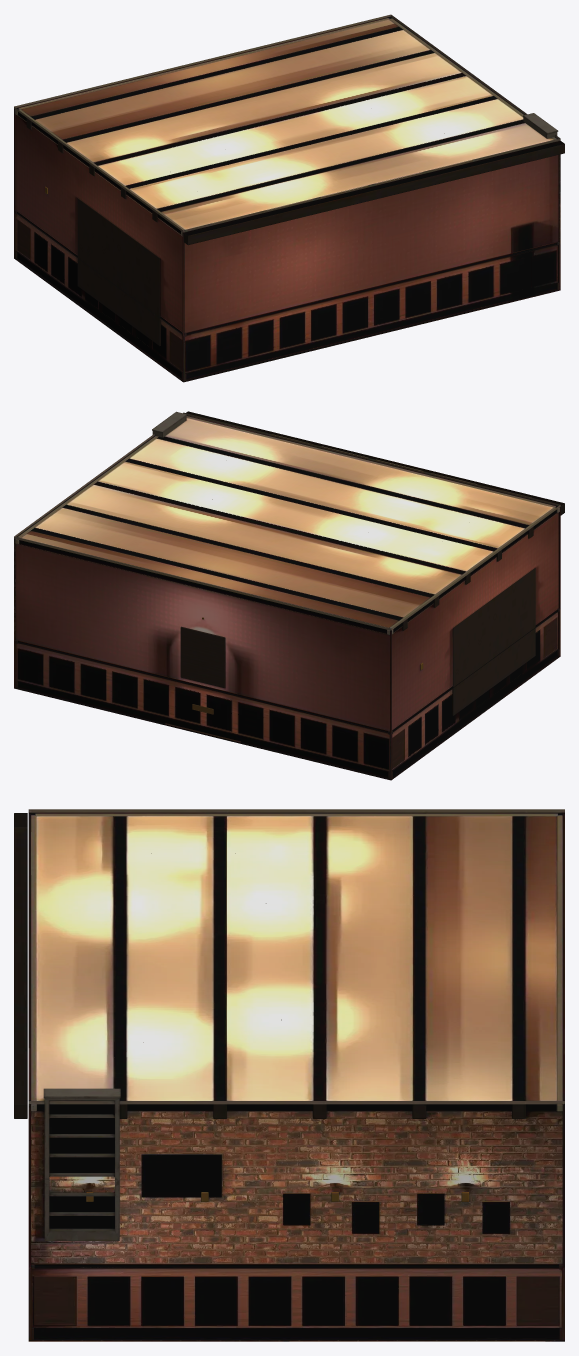
The model's file is pub.glb.
The picture shows the model from 3 angles, top to bottom: view 1: azimuth 30°, elevation 25°; view 2: azimuth 150°, elevation 25°; view 3: azimuth 270°, elevation 25°; orthographic projection. The views are drawn at different scales.
Visible parts, largest first — view 1: bake_ceil, bake_wallB, bake_wallL, bake_bar, bake_wallF, bake_wallR, bake_floor, bake_props; view 2: bake_ceil, bake_wallF, bake_wallL, bake_bar, bake_board, bake_wallB, bake_wallR, bake_floor, bake_props; view 3: bake_ceil, bake_wallR, bake_wallB, bake_props, bake_wallF, bake_wallL, bake_floor.
Boxes of the visible parts, bbox=[...] form: bake_ceil: bbox=[14, 14, 564, 245]; bake_wallB: bbox=[169, 139, 558, 380]; bake_wallL: bbox=[16, 109, 187, 381]; bake_bar: bbox=[77, 198, 160, 345]; bake_wallF: bbox=[14, 16, 391, 259]; bake_wallR: bbox=[389, 17, 560, 290]; bake_floor: bbox=[14, 258, 560, 382]; bake_props: bbox=[45, 113, 558, 194]; bake_ceil: bbox=[14, 411, 564, 630]; bake_wallF: bbox=[16, 537, 404, 779]; bake_wallL: bbox=[387, 507, 558, 779]; bake_bar: bbox=[452, 568, 535, 715]; bake_board: bbox=[180, 626, 225, 714]; bake_wallB: bbox=[186, 415, 560, 657]; bake_wallR: bbox=[14, 435, 158, 688]; bake_floor: bbox=[14, 656, 560, 780]; bake_props: bbox=[152, 411, 423, 670]; bake_ceil: bbox=[14, 809, 564, 1118]; bake_wallR: bbox=[31, 1104, 562, 1339]; bake_wallB: bbox=[28, 812, 76, 1339]; bake_props: bbox=[43, 853, 469, 1240]; bake_wallF: bbox=[516, 812, 564, 1339]; bake_wallL: bbox=[31, 812, 562, 816]; bake_floor: bbox=[28, 1340, 564, 1341].
Bounding box in the file's own units: 9.06 × 3.55 × 7.19.
11 materials, 11 textured.
